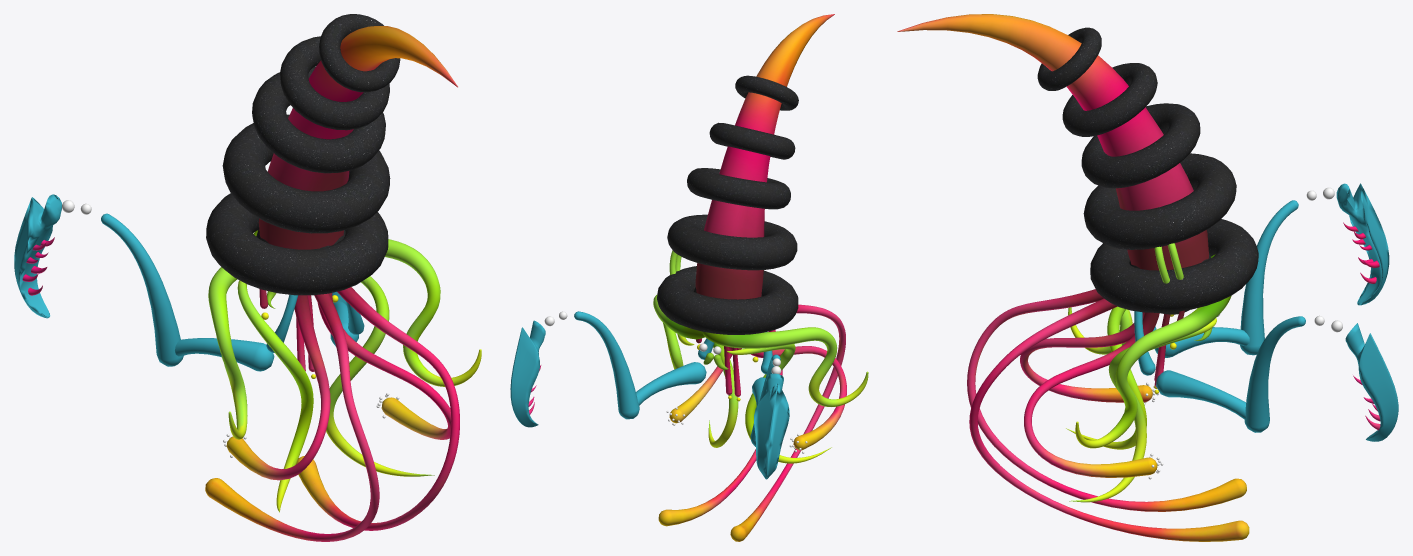
Rendered from HermitOBJ.obj.
The picture shows the model from 3 angles, left to right: view 1: azimuth 30°, elevation 25°; view 2: azimuth 150°, elevation 25°; view 3: azimuth 270°, elevation 25°; orthographic projection. The views are drawn at different scales.
Parts seen in each view (by area): view 1: HermitOBJ; view 2: HermitOBJ; view 3: HermitOBJ.
Boxes of the visible parts, x1,y1,x2,y2 form: HermitOBJ: [14, 14, 481, 541]; HermitOBJ: [510, 14, 868, 541]; HermitOBJ: [897, 14, 1398, 541].
Size of the model in its own units: 240 by 371 by 327.
Materials: 10 (4 with a texture image).
